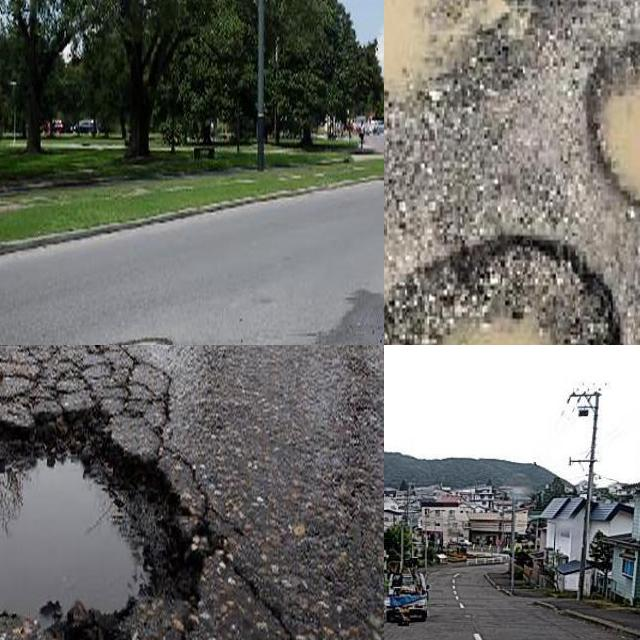Lubang: (0, 410, 202, 627), (384, 235, 625, 345), (587, 39, 640, 214), (110, 337, 175, 345)
Retak Buaya: (0, 345, 170, 457)
